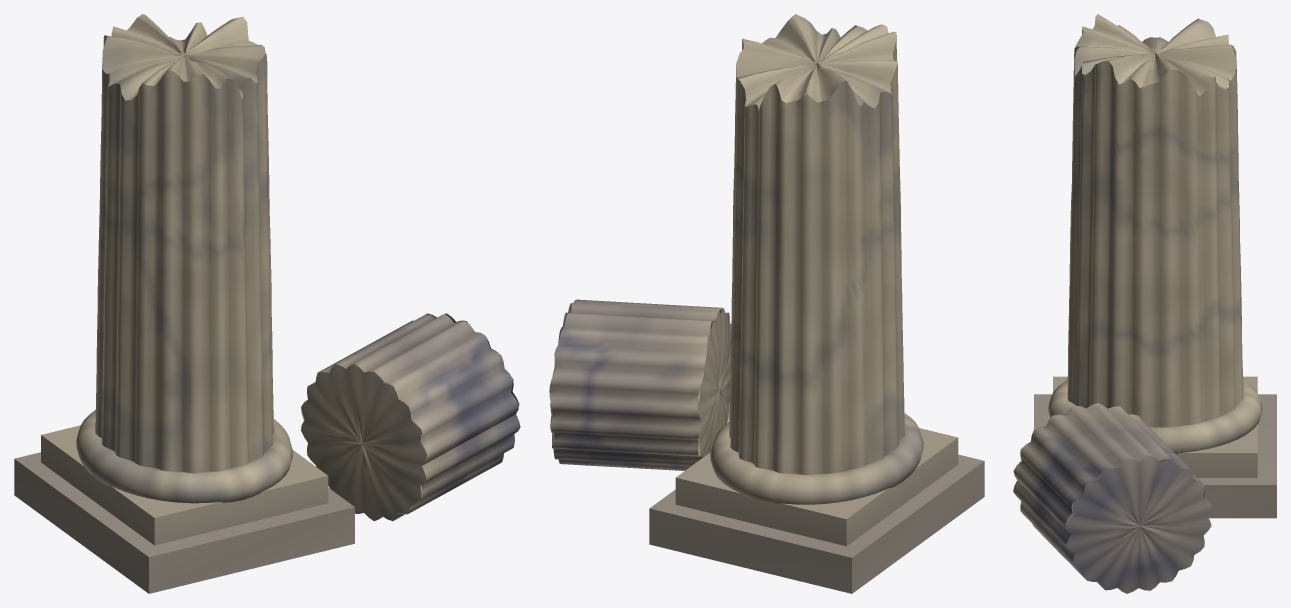
File: greek-column.glb
3 views of the same model, side by side, from view 1: azimuth 30°, elevation 25°; view 2: azimuth 150°, elevation 25°; view 3: azimuth 270°, elevation 25° (orthographic). The views are drawn at different scales.
Visible parts, largest first — view 1: shaft, plinth, fallen-drum; view 2: shaft, plinth, fallen-drum; view 3: shaft, fallen-drum, plinth.
Boxes of the visible parts, x1,y1,x2,y2 form: shaft: [95, 14, 273, 473]; plinth: [14, 410, 354, 593]; fallen-drum: [300, 313, 520, 521]; shaft: [729, 14, 904, 475]; plinth: [649, 413, 984, 593]; fallen-drum: [549, 299, 731, 470]; shaft: [1067, 14, 1243, 427]; fallen-drum: [1013, 402, 1211, 593]; plinth: [1034, 376, 1276, 518].
Size of the model in its own units: 200 by 240 by 130.
